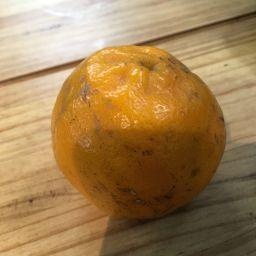Unripe: (50, 47, 229, 221)
